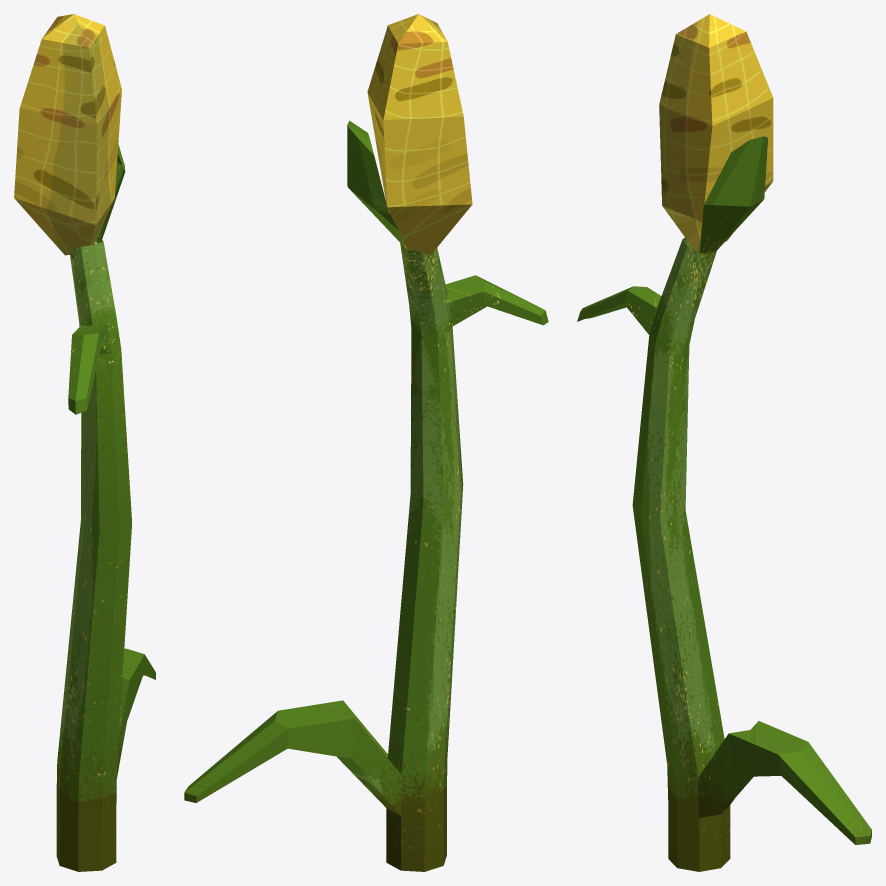
Rendered from SM_Corn.fbx.
3 views of the same model, side by side, from view 1: azimuth 30°, elevation 25°; view 2: azimuth 150°, elevation 25°; view 3: azimuth 270°, elevation 25° (orthographic).
Parts seen in each view (by area): view 1: tige_mais, mais; view 2: tige_mais, mais; view 3: tige_mais, mais.
Boxes of the visible parts, x1,y1,x2,y2 form: tige_mais: [56, 144, 155, 871]; mais: [14, 14, 121, 255]; tige_mais: [184, 120, 548, 871]; mais: [367, 14, 472, 255]; tige_mais: [577, 136, 871, 871]; mais: [659, 14, 773, 252].
Size of the model in its own units: 0.4921 by 1.81 by 0.5738.
